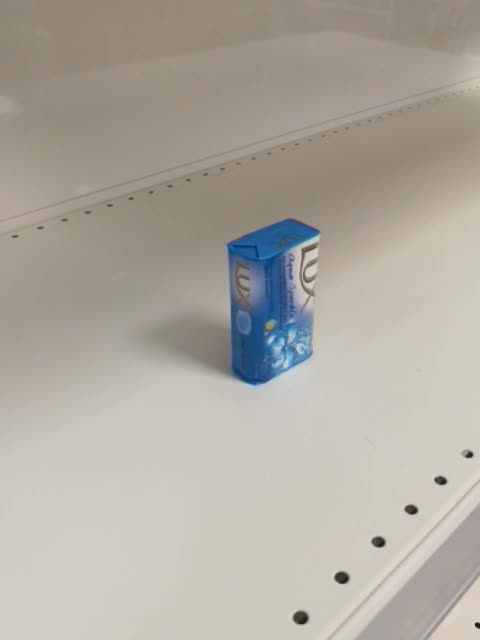soap: (225, 214, 322, 387)
